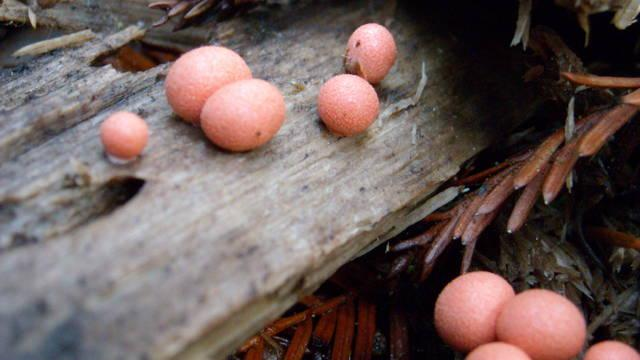poisonous_mushroom: (435, 265, 640, 360), (163, 43, 252, 124), (199, 77, 286, 152), (316, 72, 380, 136), (341, 21, 398, 83), (98, 109, 149, 163)
